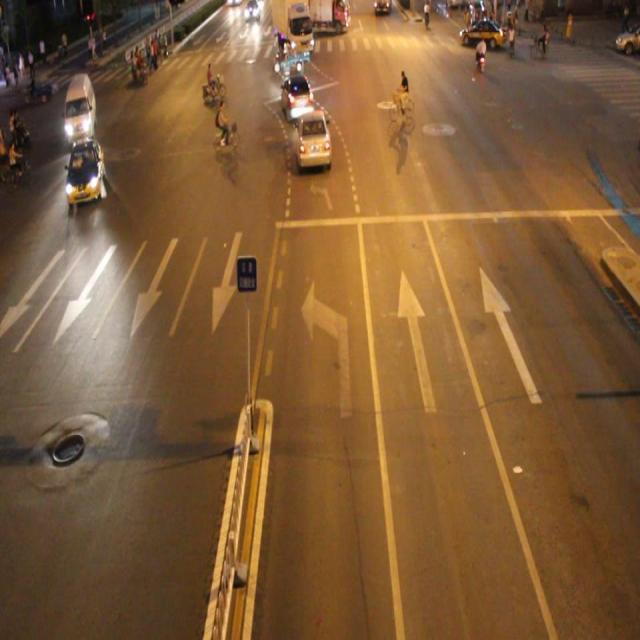car: (64, 138, 104, 206), (293, 108, 332, 171), (278, 70, 315, 121)
truck: (62, 72, 97, 143)
